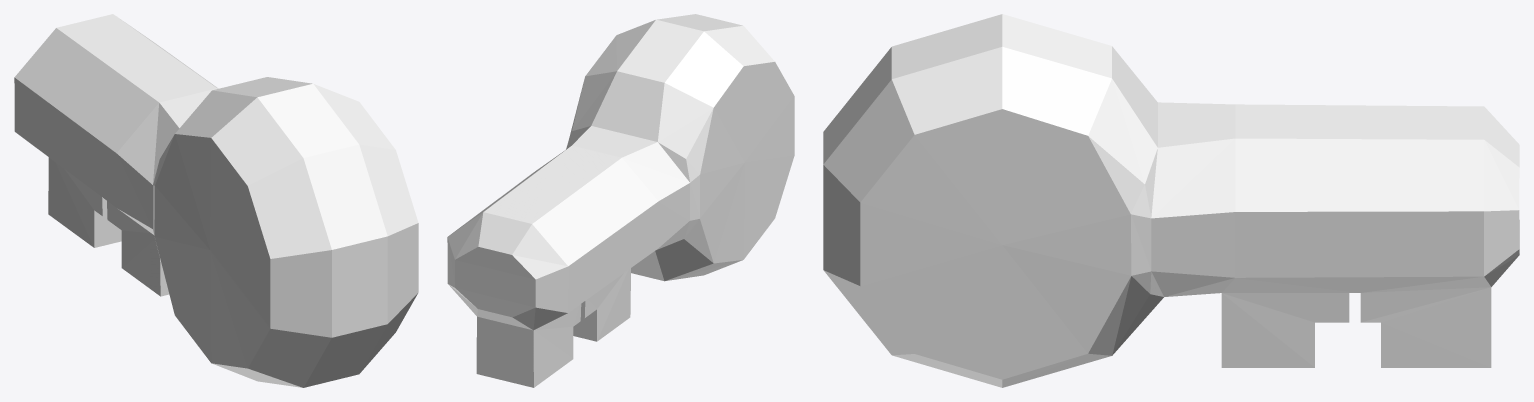
The model's file is key.FBX.
3 views of the same model, side by side, from view 1: azimuth 30°, elevation 25°; view 2: azimuth 150°, elevation 25°; view 3: azimuth 270°, elevation 25° (orthographic). The views are drawn at different scales.
Parts seen in each view (by area): view 1: key; view 2: key; view 3: key.
Part boxes in pixels (<box>): key: <box>14,14,418,387</box>; key: <box>447,14,794,387</box>; key: <box>823,14,1519,387</box>.
Size of the model in its own units: 0.5449 by 0.9623 by 1.78.
Materials: 1 (1 with a texture image).
